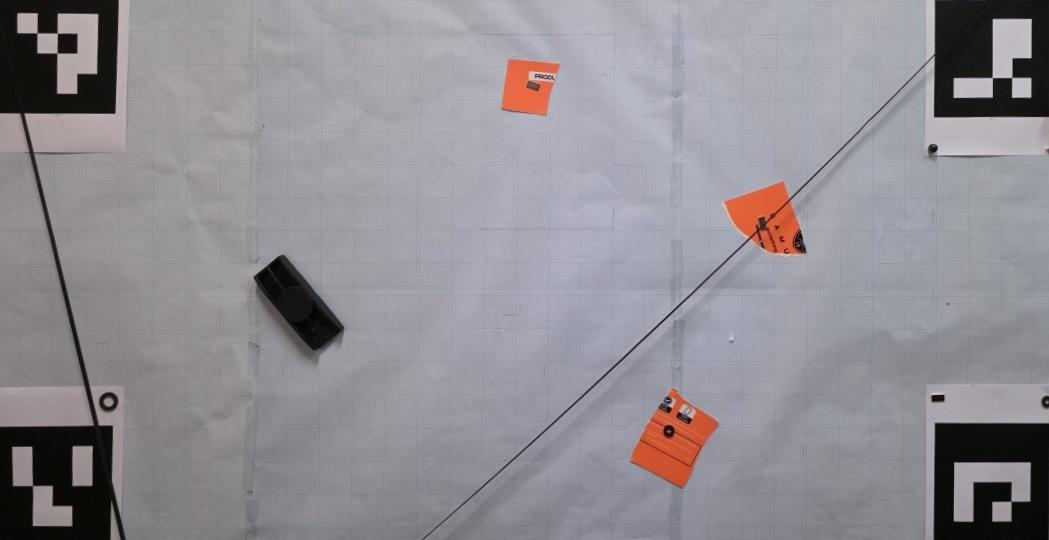obstacle: (630, 387, 720, 489), (254, 255, 345, 352), (722, 181, 806, 257), (502, 58, 561, 116)
